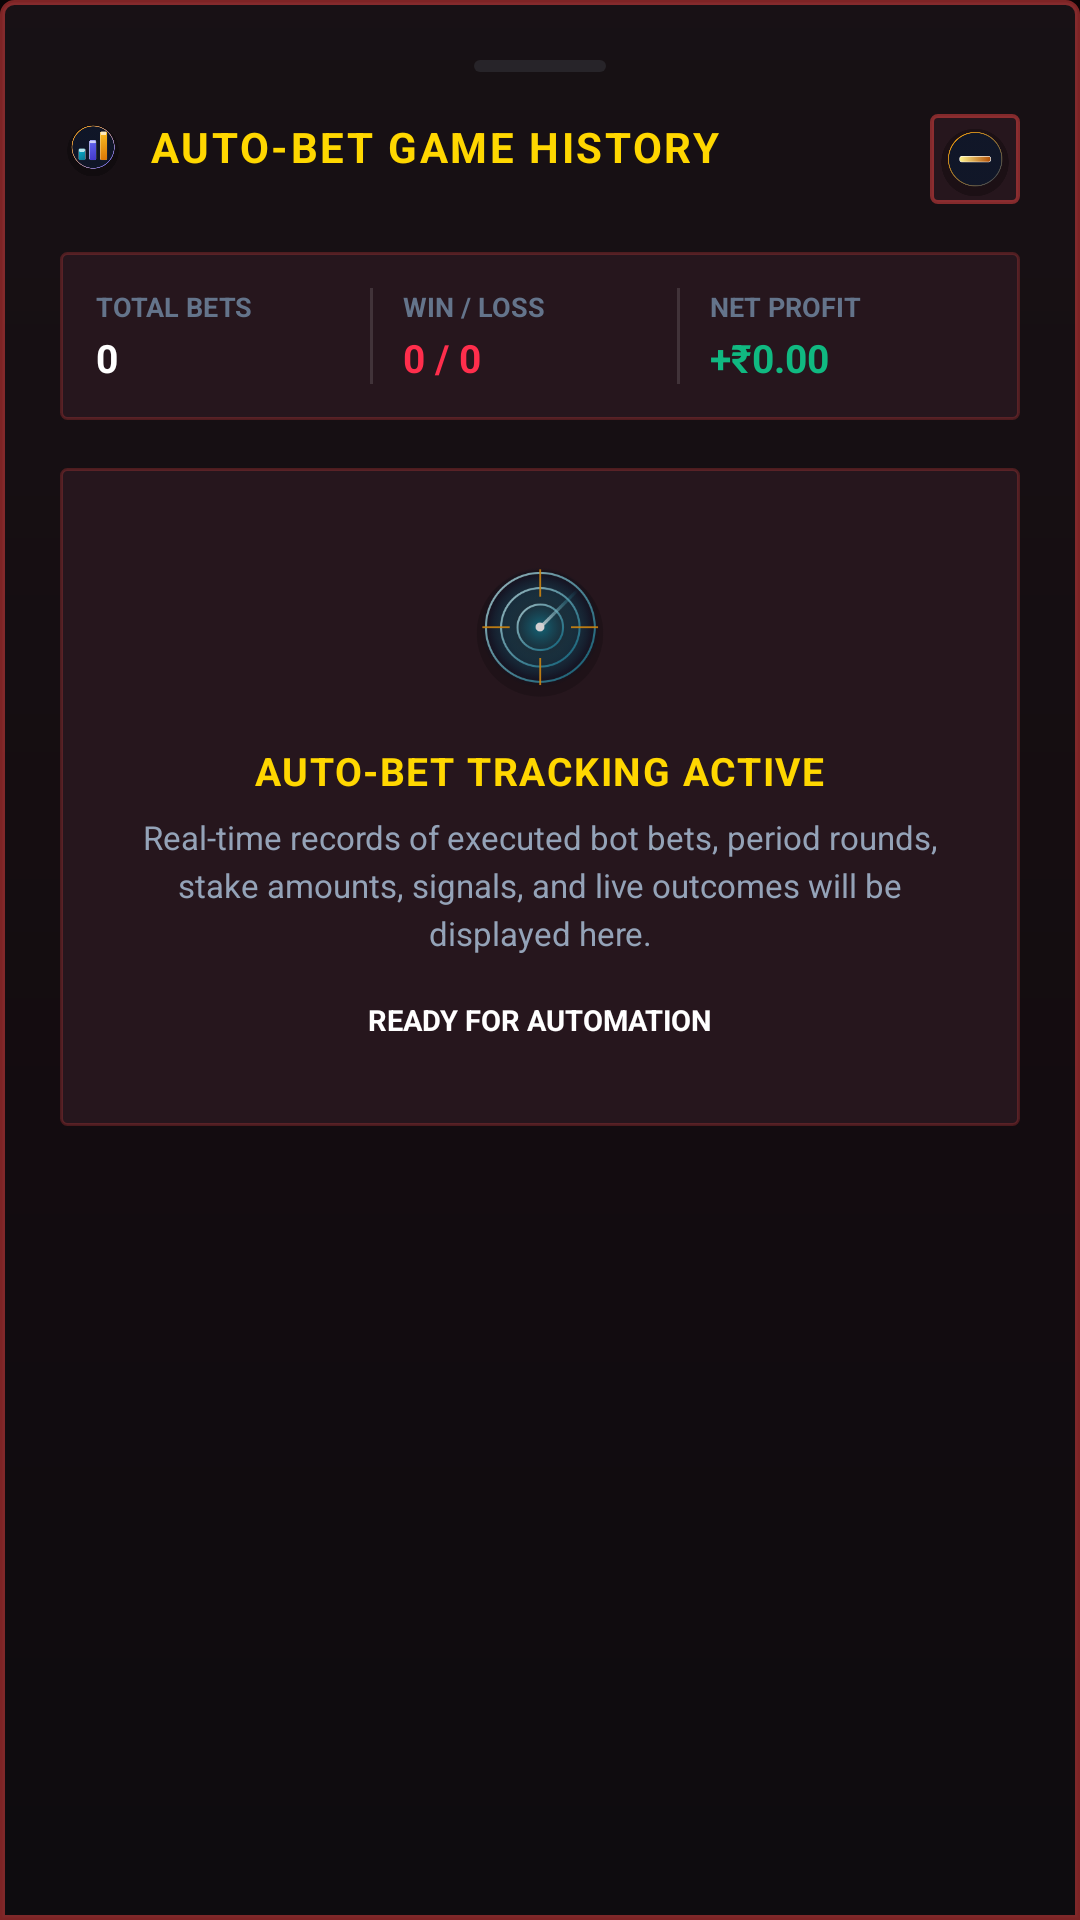

Icon bounding boxes for this 1080 × 1920 phone screenshot, format (left=x1, top=y1, right=x2, bottom=y2):
analytics 3d: (left=71, top=125, right=115, bottom=169)
radar 3d: (left=481, top=569, right=600, bottom=687)
